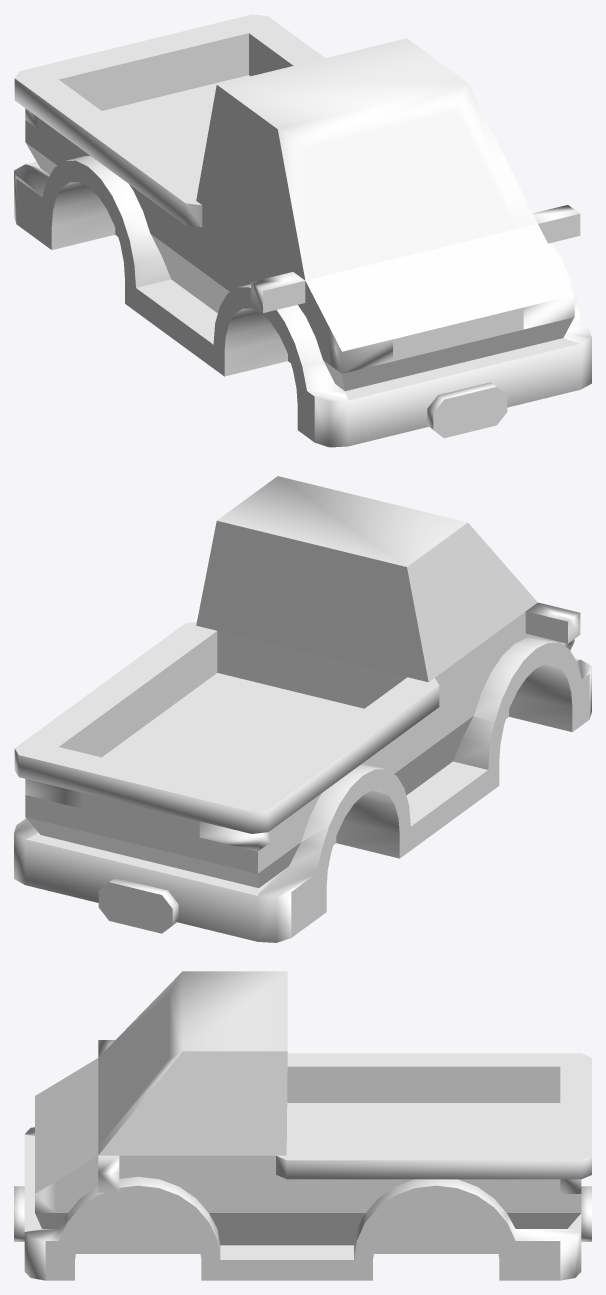
File: truck-vehicle.glb
The picture shows the model from 3 angles, top to bottom: view 1: azimuth 30°, elevation 25°; view 2: azimuth 150°, elevation 25°; view 3: azimuth 270°, elevation 25°; orthographic projection. The views are drawn at different scales.
Visible parts, largest first — view 1: truck-vehicle; view 2: truck-vehicle; view 3: truck-vehicle.
Boxes of the visible parts, x1,y1,x2,y2 form: truck-vehicle: (14, 14, 591, 447); truck-vehicle: (14, 476, 591, 942); truck-vehicle: (14, 971, 591, 1280).
Size of the model in its own units: 1.5 by 1.15 by 2.75.
Materials: 1 (1 with a texture image).
